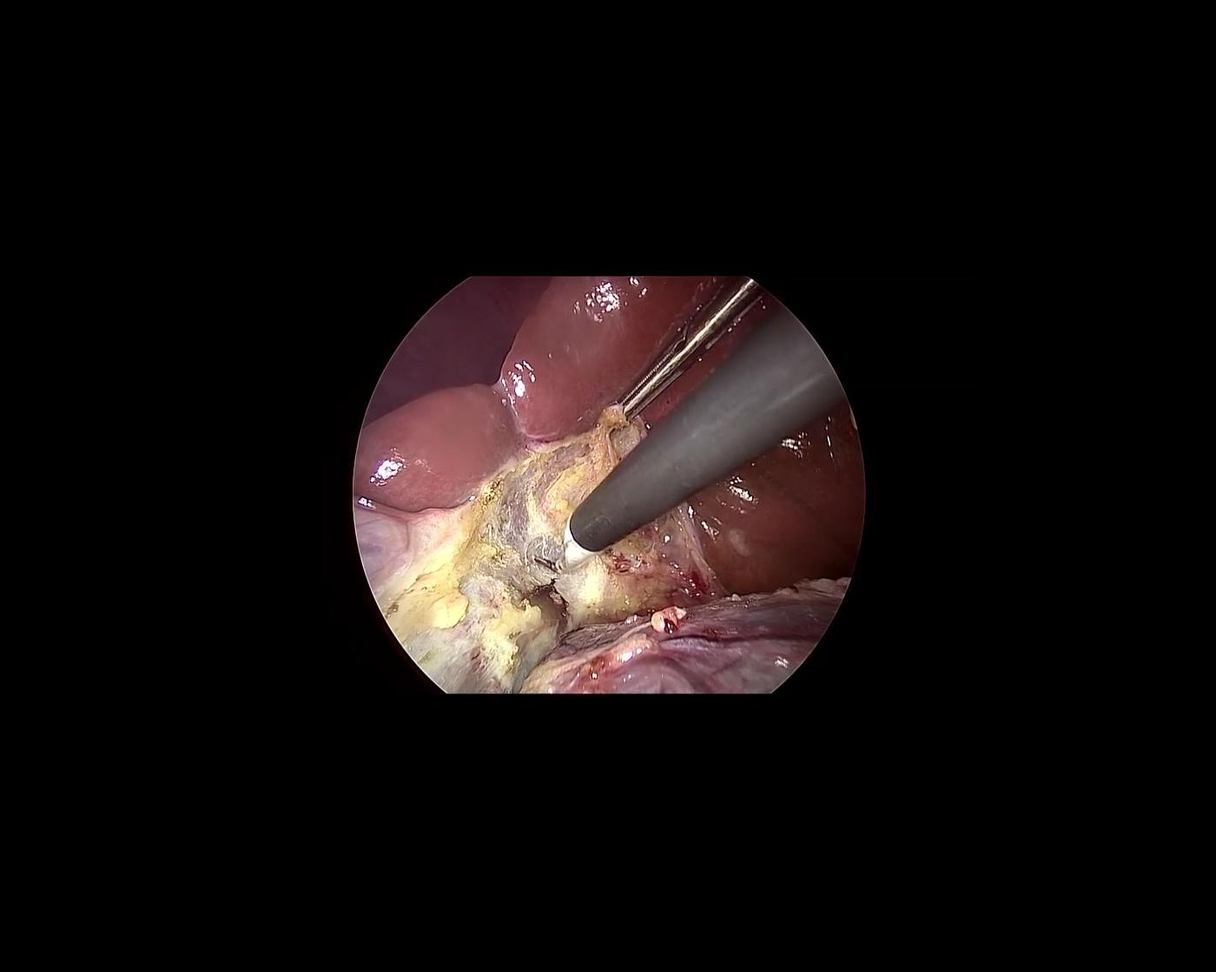Cautery: (494, 305, 848, 601)
Forceps: (602, 265, 766, 424)
Gallbladder: (319, 454, 576, 726)
Liver: (308, 208, 806, 539), (680, 403, 878, 597)
